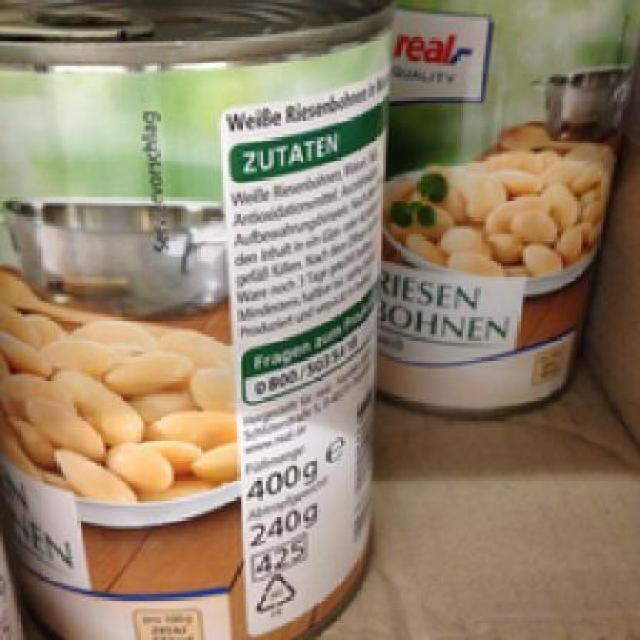Beans: (6, 5, 392, 638), (394, 6, 632, 403)
